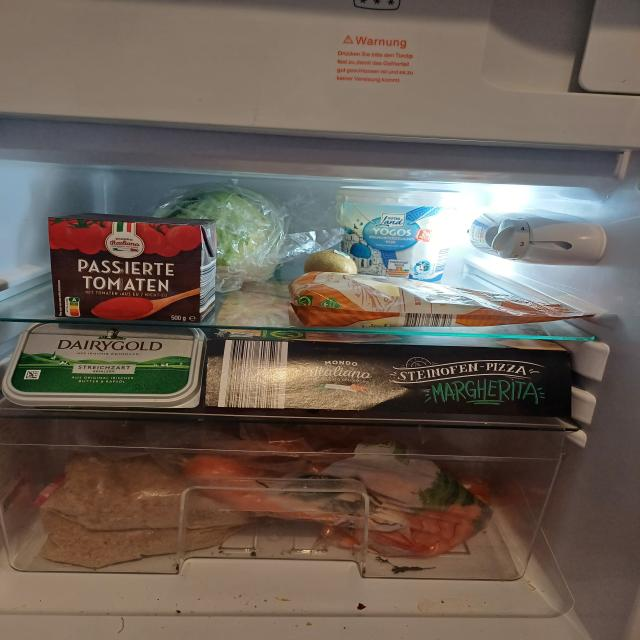Butter: (3, 318, 209, 412)
Cheese: (287, 271, 570, 332)
Pizza: (207, 328, 581, 419)
Plastic bag: (42, 443, 242, 564)
Tomato Puree: (44, 212, 216, 320)
Yogurt: (336, 184, 457, 283)
cabbage: (154, 180, 288, 287)
carrots: (188, 427, 494, 564)
kiwi: (307, 248, 357, 280)
